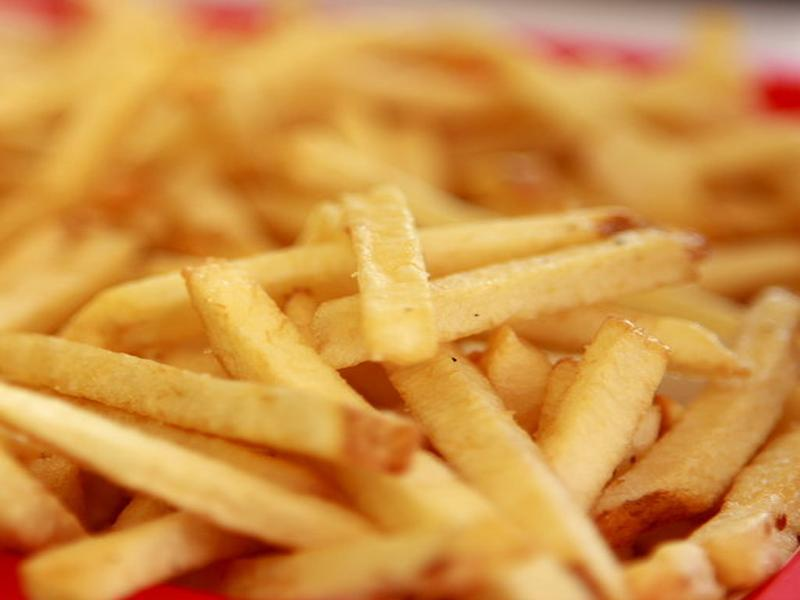french_fries: (18, 71, 793, 600)
